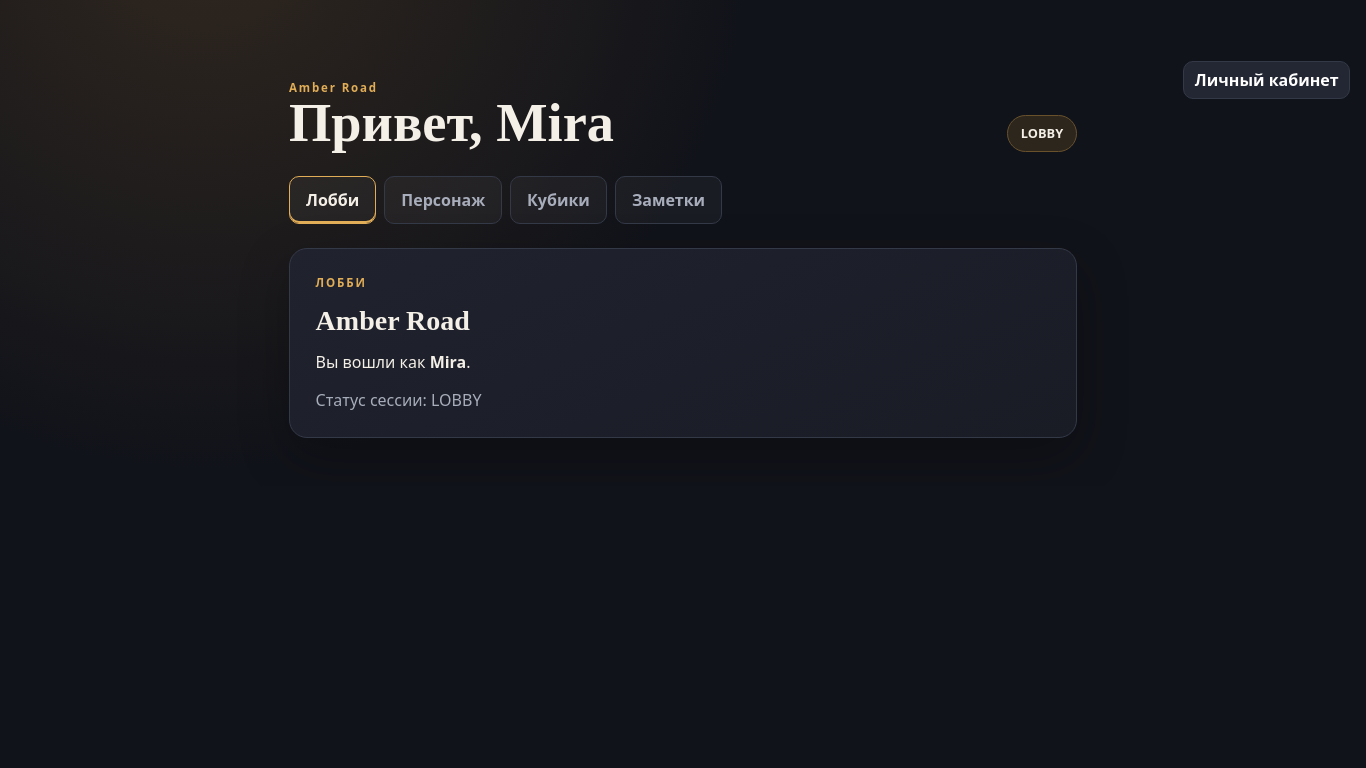
Test: local multiplayer interface › starts the simple character flow
Click the button "Личный кабинет".
click(1267, 80)  # box [1184,61,1350,99]
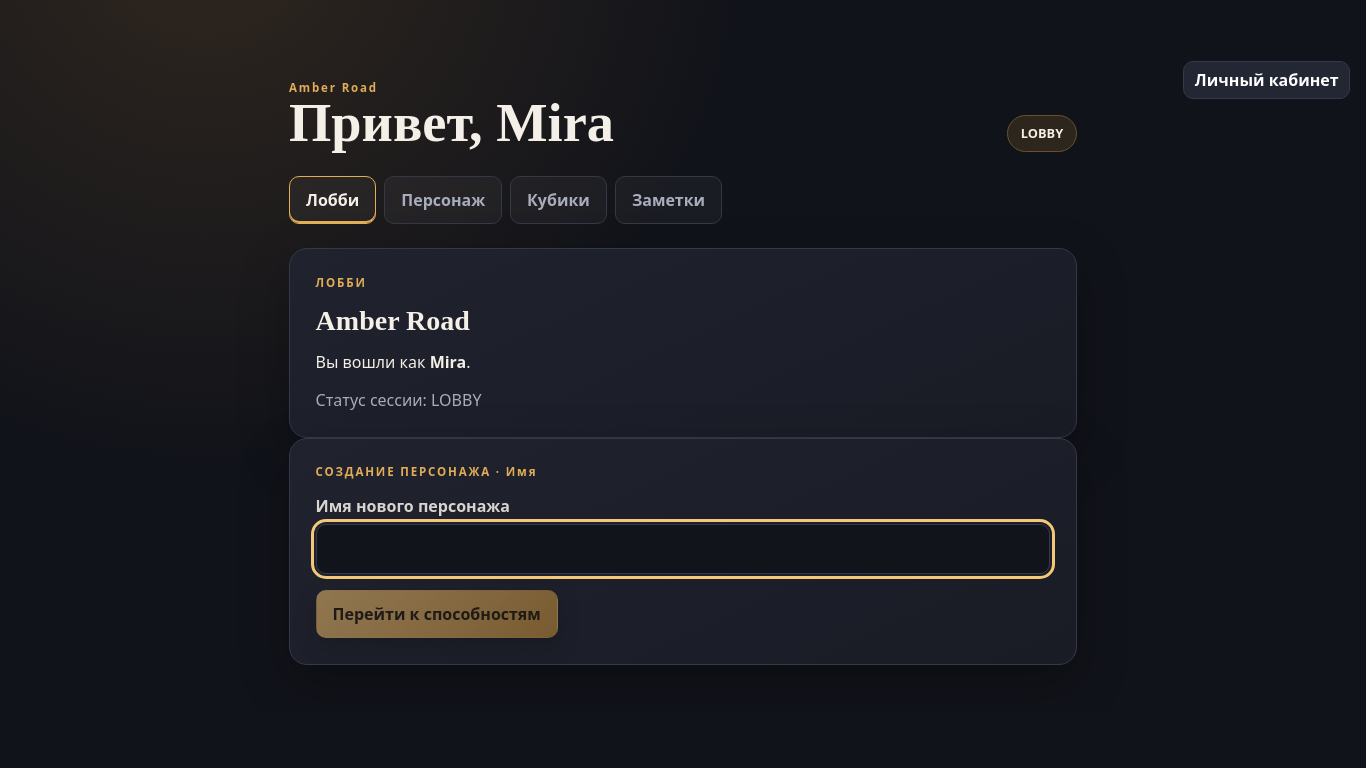
Type "Aria" into the field labelled "Имя нового персонажа".
click(683, 550); type("Aria")  # box [316,524,1050,574]
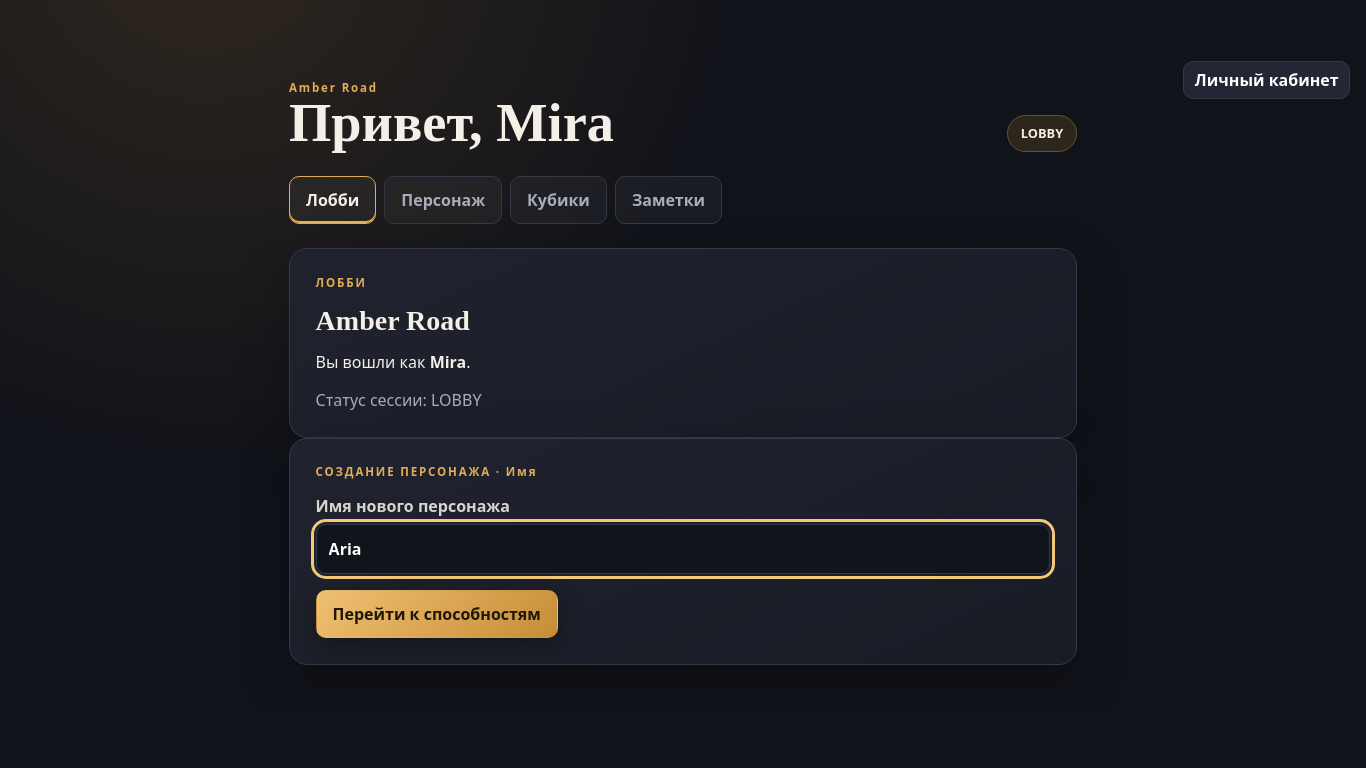
Click the button "Перейти к способностям".
click(437, 614)  # box [316,590,558,638]
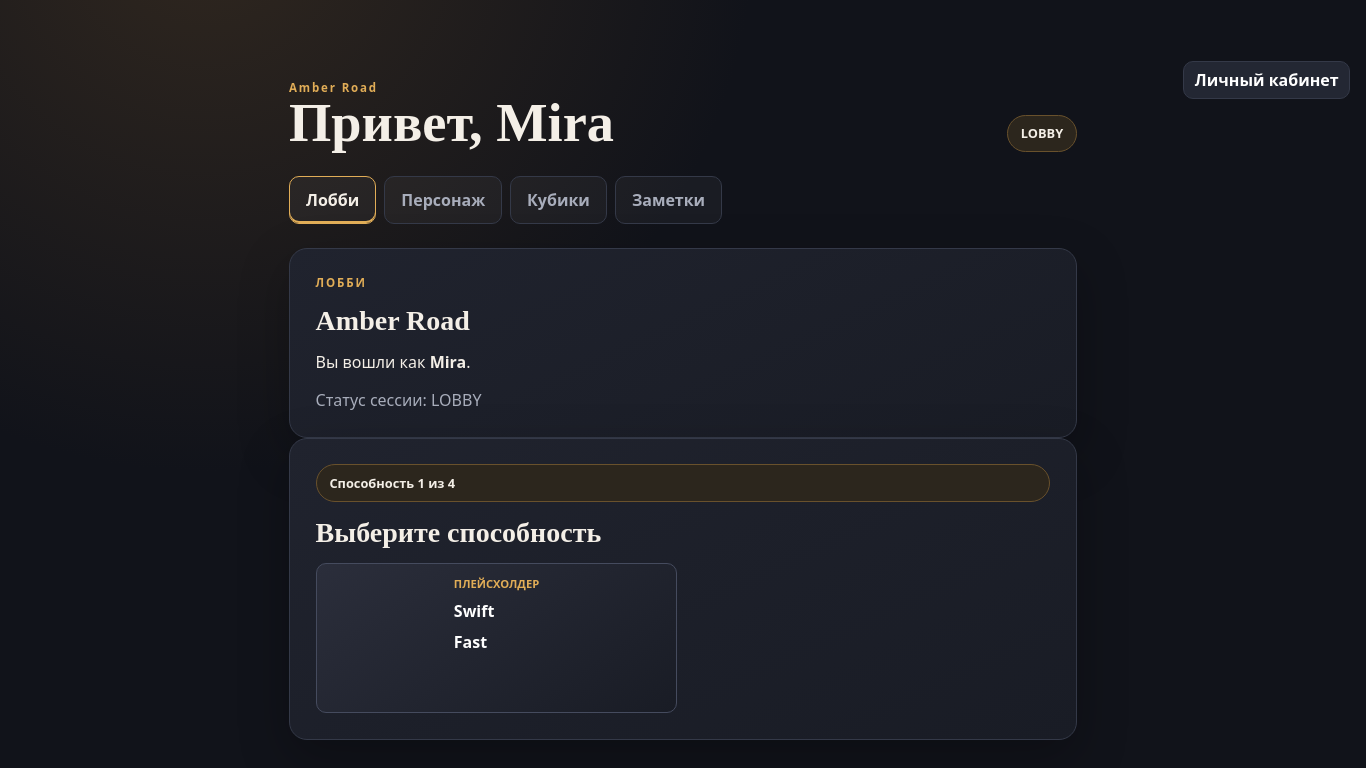
Result: the text "Swift" is shown at [454,600,494,622]
